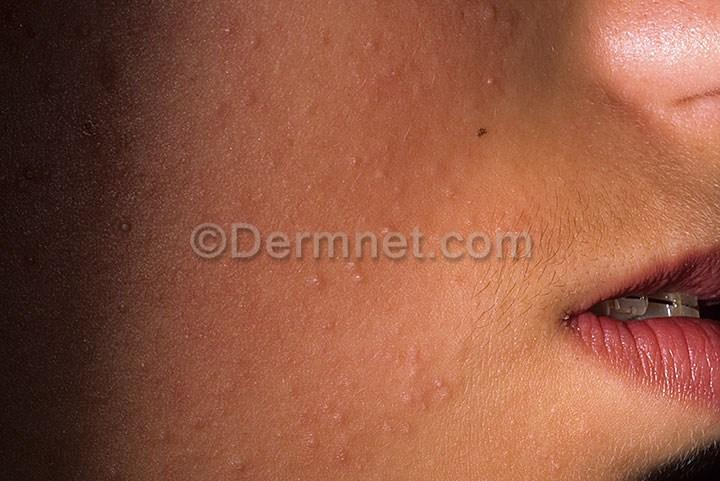edema 1: (99, 0, 511, 480)
